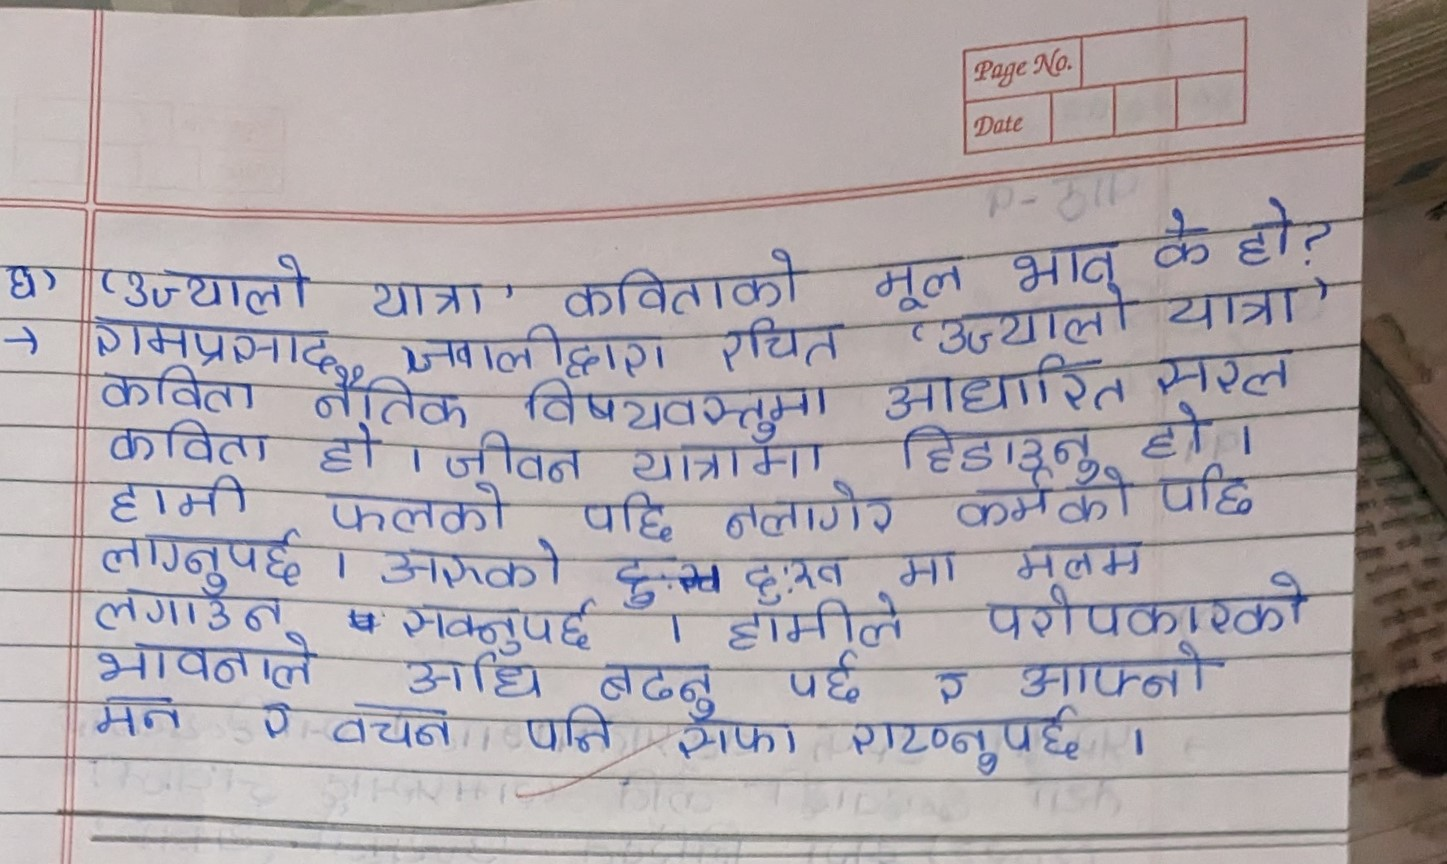text: (555, 239, 806, 317), (856, 710, 1110, 786), (982, 582, 1323, 637), (522, 380, 834, 438), (872, 351, 1131, 417), (392, 326, 666, 379), (115, 243, 310, 315), (85, 315, 337, 369), (1006, 643, 1237, 696), (98, 527, 312, 582), (96, 635, 318, 688), (401, 593, 603, 650), (714, 485, 907, 543), (376, 539, 574, 595), (953, 474, 1144, 532), (897, 420, 1106, 470), (933, 298, 1133, 351), (324, 482, 505, 537), (626, 435, 834, 481), (721, 604, 917, 652), (92, 585, 291, 632), (103, 418, 272, 469), (318, 371, 468, 427), (93, 366, 263, 415), (592, 656, 735, 714), (328, 697, 465, 756), (1004, 534, 1156, 585), (399, 651, 554, 699), (365, 264, 495, 322), (441, 431, 580, 483), (110, 473, 257, 523), (1155, 347, 1300, 396), (83, 690, 203, 747), (719, 315, 848, 366), (575, 488, 686, 547), (1162, 284, 1304, 330), (1155, 466, 1270, 523), (1013, 235, 1126, 291), (671, 718, 807, 763), (869, 246, 967, 309), (734, 548, 848, 602), (1145, 206, 1227, 277), (1139, 403, 1224, 461), (1234, 196, 1298, 267), (527, 703, 613, 754), (784, 650, 868, 703), (896, 545, 963, 595), (322, 423, 376, 477), (1, 251, 46, 303), (251, 694, 293, 747), (931, 663, 975, 706)
